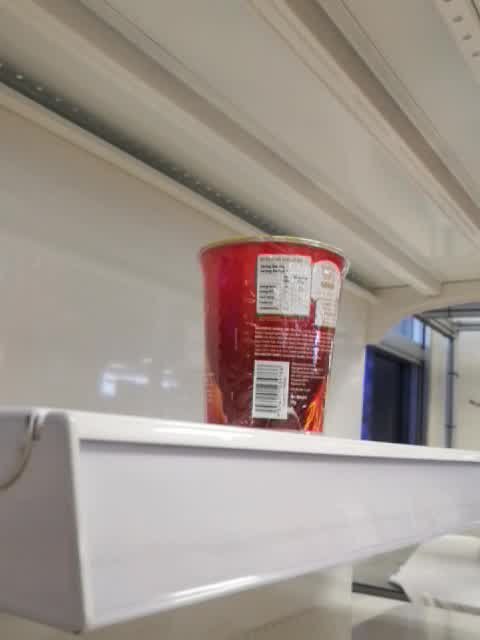maggi: (196, 234, 350, 438)
